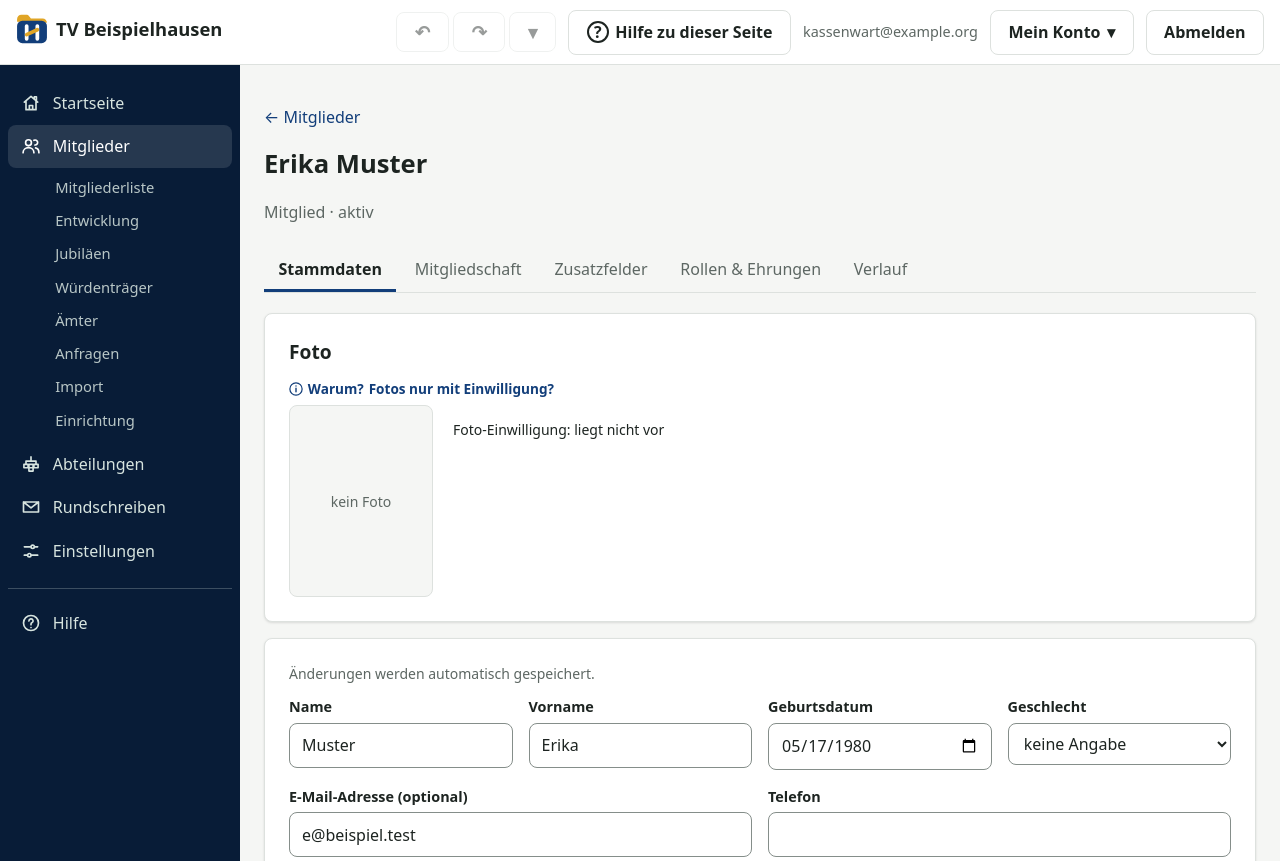
it: Mitgliedsakte › erfasst einen Austritt
Click the link "Mitgliedschaft".
click(468, 269)  # box 415,258 -> 522,280
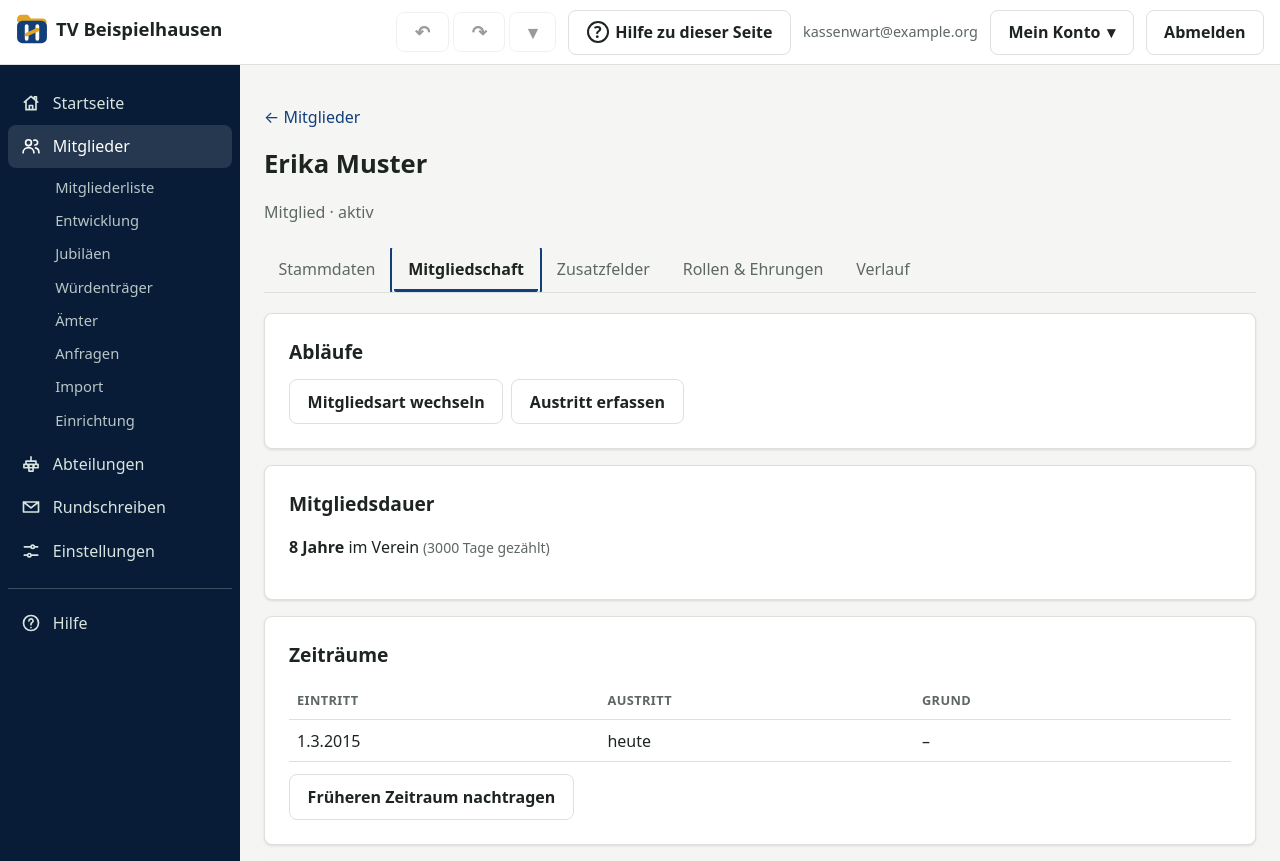
Click the button "Austritt erfassen".
click(597, 402)  # box 511,379 -> 684,424
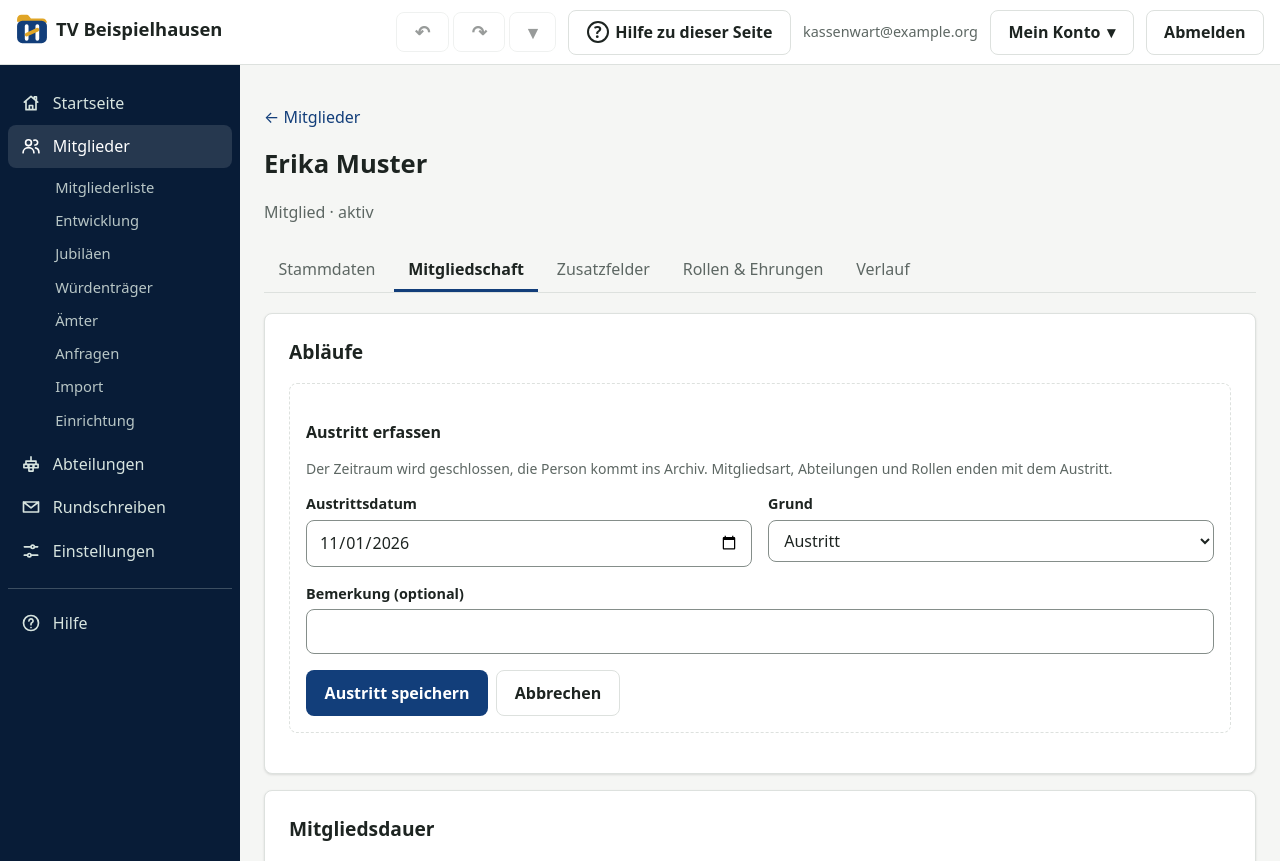
Select "Tod" in the dropdown labelled "Grund" at coordinates (991, 541), box 768,520 -> 1214,562
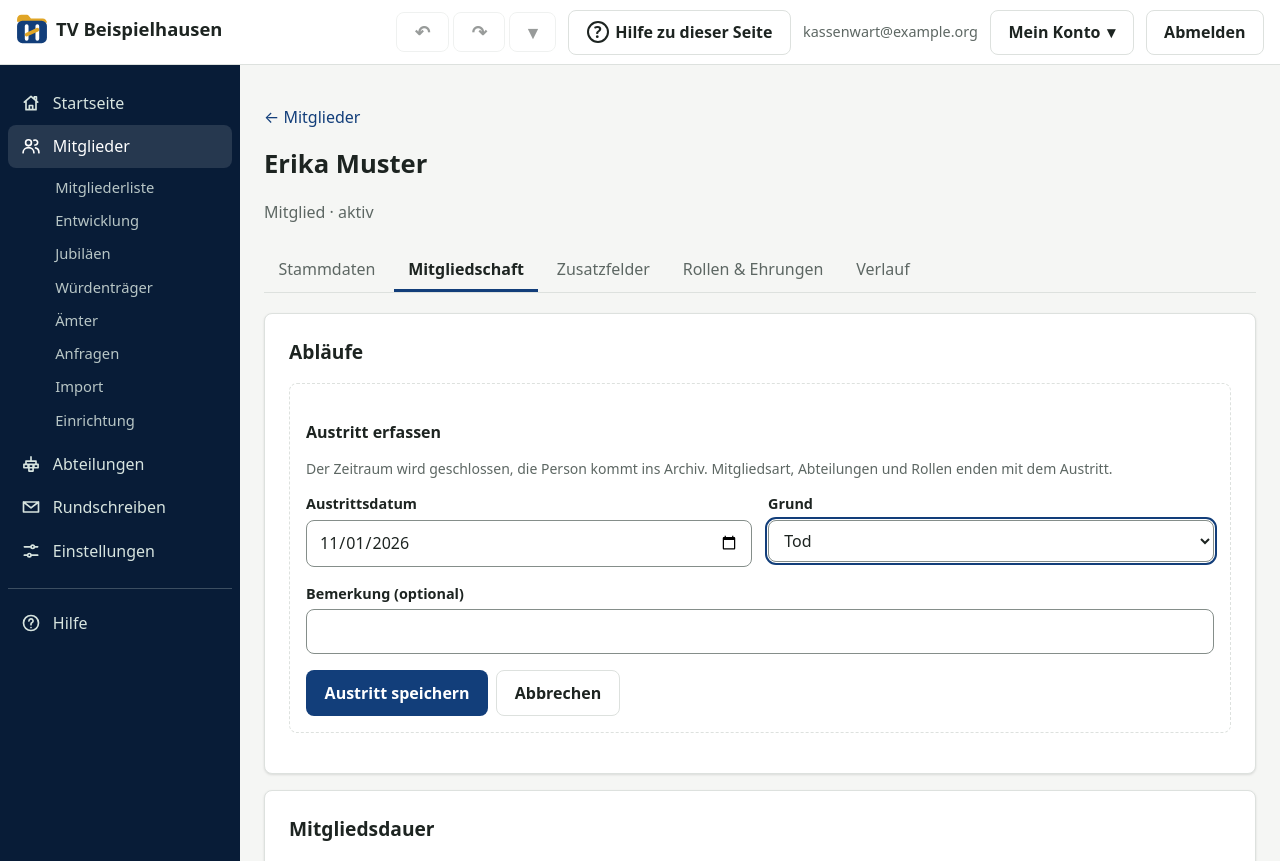
Click the button "Austritt speichern".
click(397, 693)  # box 306,670 -> 488,716
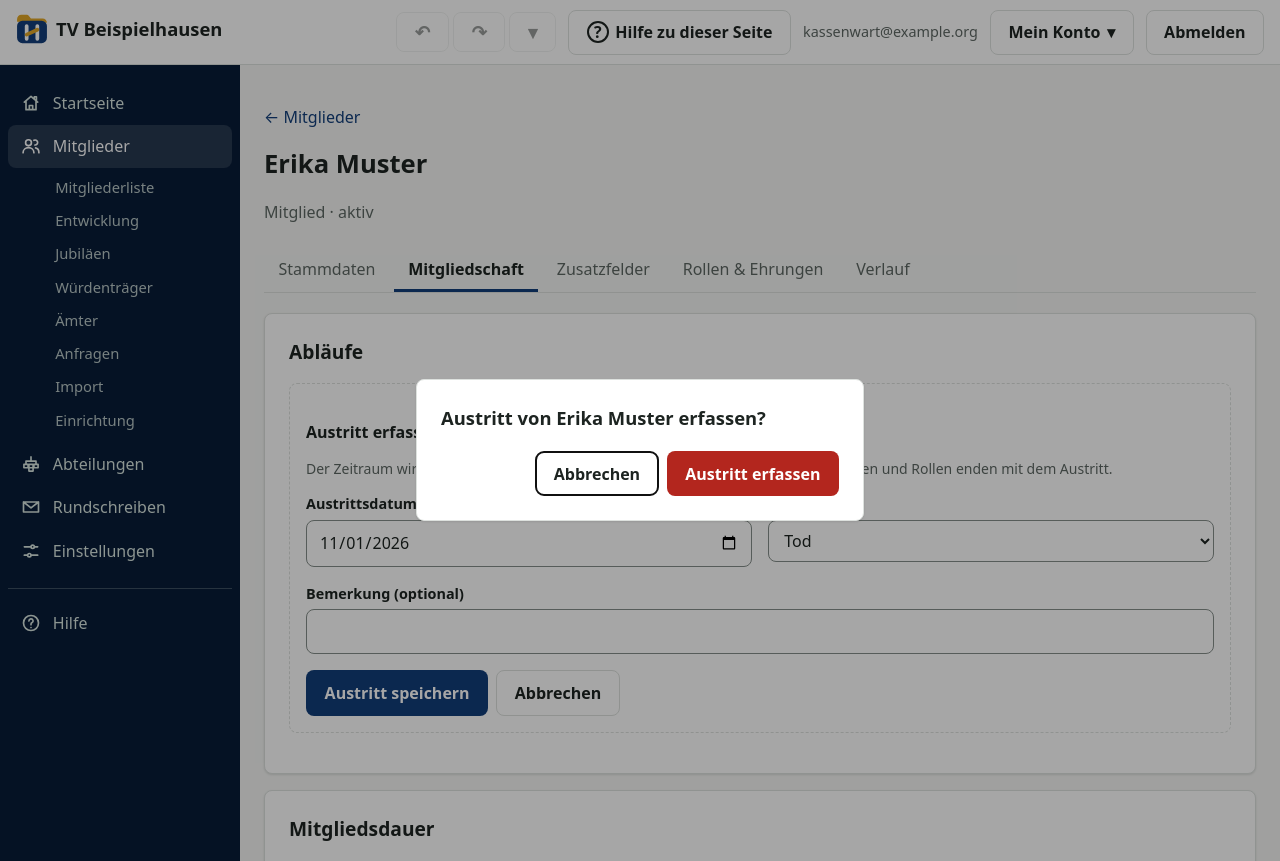
Click the button "Austritt erfassen".
click(753, 474)  # box 667,451 -> 839,496
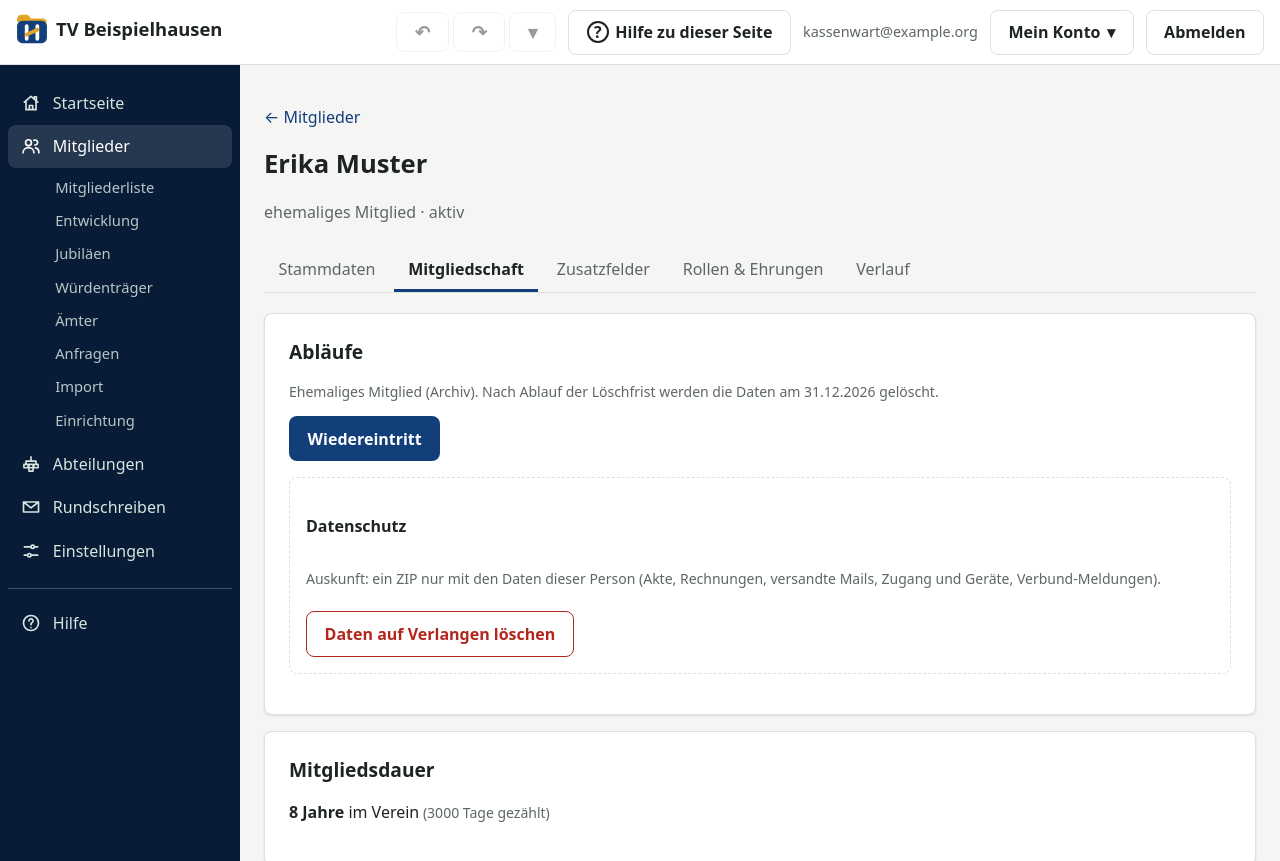
Result: the button "Wiedereintritt" is shown at 289,416 -> 440,461
Result: the text "31.12.2026" is shown at 659,382 -> 939,401
